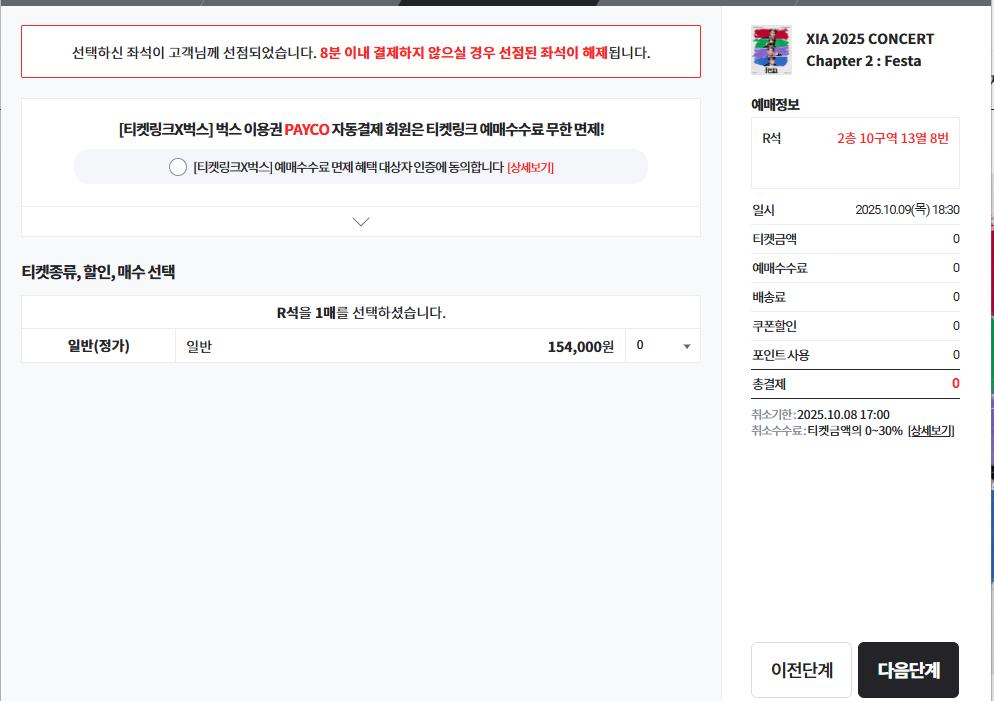button: (751, 642, 849, 698), (860, 642, 959, 696), (909, 421, 959, 436), (340, 210, 386, 225)
checkbox: (170, 153, 551, 174), (625, 337, 696, 354)
